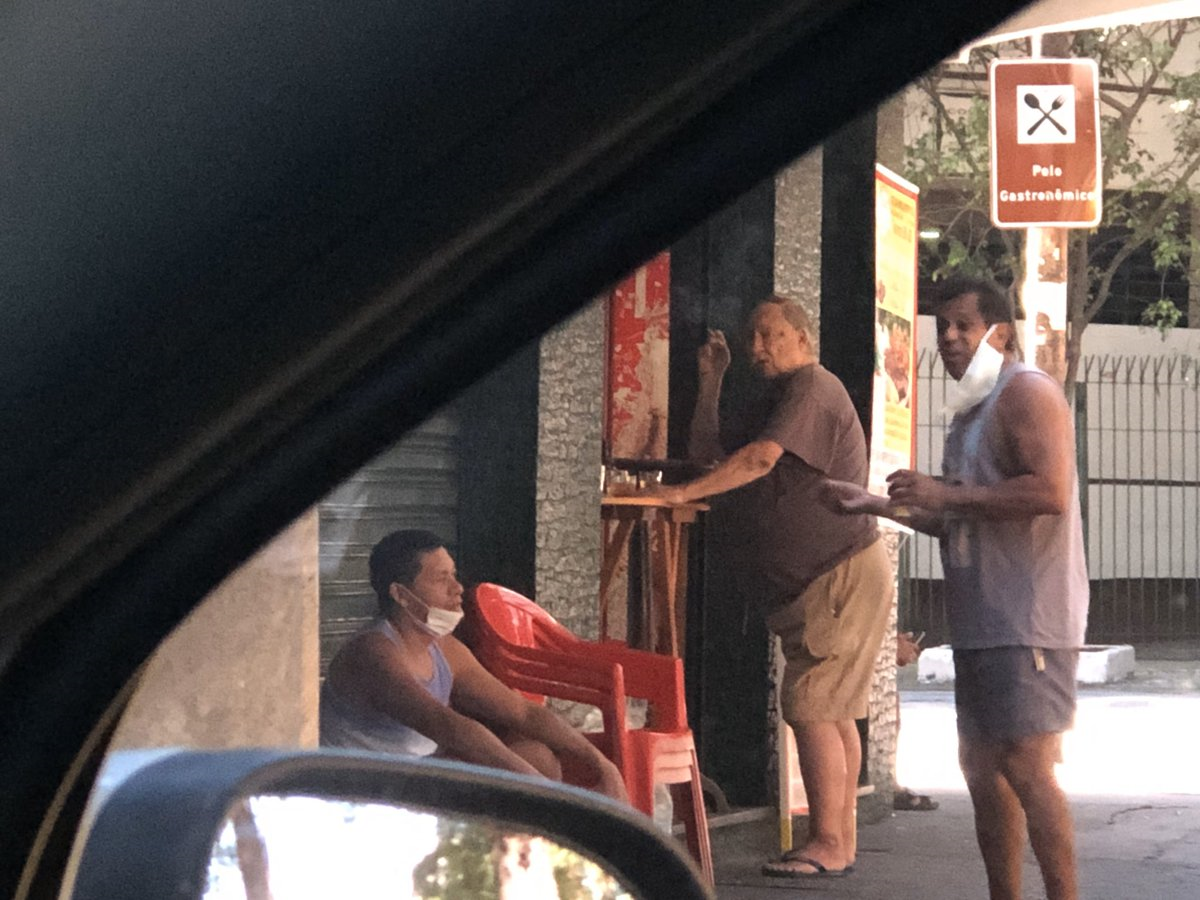mask_weared_incorrect: (931, 289, 1021, 403), (384, 544, 468, 648)
without_mask: (739, 304, 813, 384)
